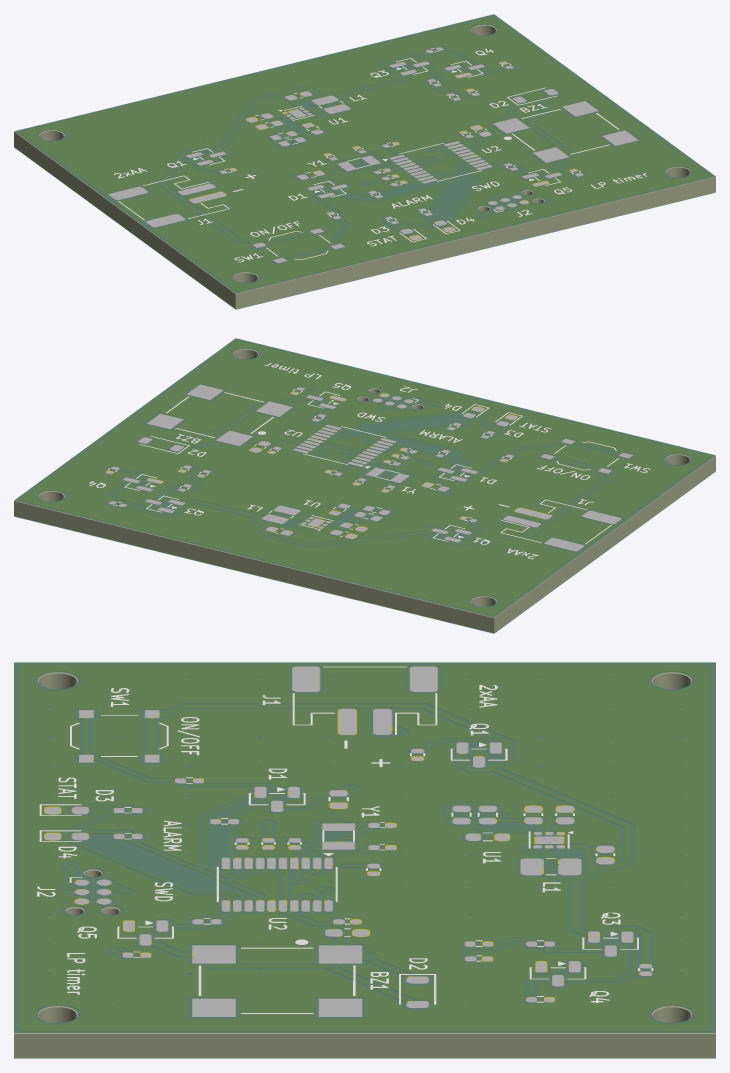
Rendered from board.glb.
3 views of the same model, one above another, from view 1: azimuth 30°, elevation 25°; view 2: azimuth 150°, elevation 25°; view 3: azimuth 270°, elevation 25° (orthographic). The views are drawn at different scales.
Visible parts, largest first — view 1: =>[0:1:1:6], =>[0:1:1:2], =>[0:1:1:8], =>[0:1:1:5]; view 2: =>[0:1:1:6], =>[0:1:1:2], =>[0:1:1:8], =>[0:1:1:5]; view 3: =>[0:1:1:6], =>[0:1:1:2], =>[0:1:1:8], =>[0:1:1:5].
Part boxes in pixels (box(x1,y1,x2,y2)): =>[0:1:1:6]: box(14, 14, 715, 309); =>[0:1:1:2]: box(19, 17, 709, 291); =>[0:1:1:8]: box(14, 15, 715, 309); =>[0:1:1:5]: box(114, 48, 646, 262); =>[0:1:1:6]: box(14, 338, 715, 633); =>[0:1:1:2]: box(20, 341, 710, 615); =>[0:1:1:8]: box(14, 339, 715, 633); =>[0:1:1:5]: box(89, 363, 650, 559); =>[0:1:1:6]: box(14, 662, 715, 1058); =>[0:1:1:2]: box(20, 665, 709, 1030); =>[0:1:1:8]: box(14, 663, 715, 1057); =>[0:1:1:5]: box(37, 666, 653, 1013).
Bounding box in the file's own units: 0.05 × 0.00164 × 0.04.
Materials: 4 (4 with a texture image).
